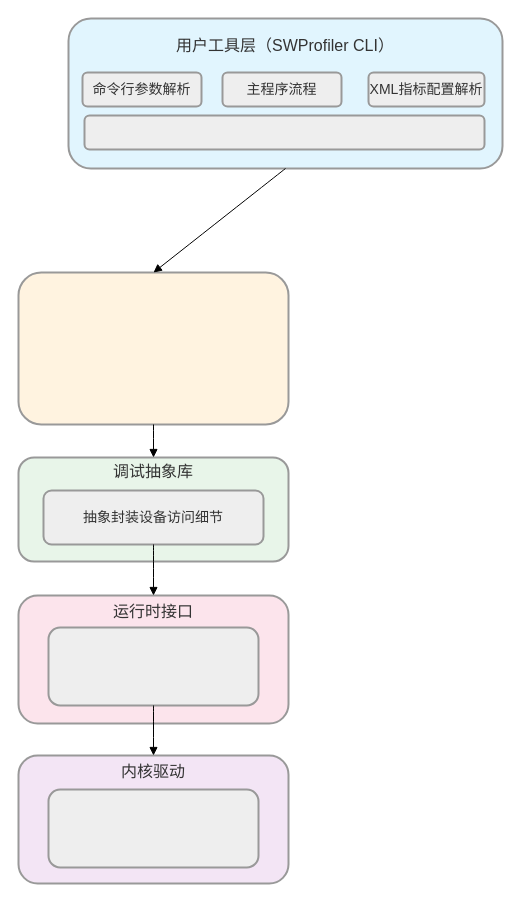
Image size: 520x901. Some labels were removed from this diagram. The centre of each missing label's shape, as x and y in pixels:
"代码对象加载、调试会话创建、执行控制" goes at point 153,666.
"实现设备端指令实际调试操作" goes at point 153,828.
"调试器核心" goes at point 153,348.
"预定义事件集" goes at point 284,132.
